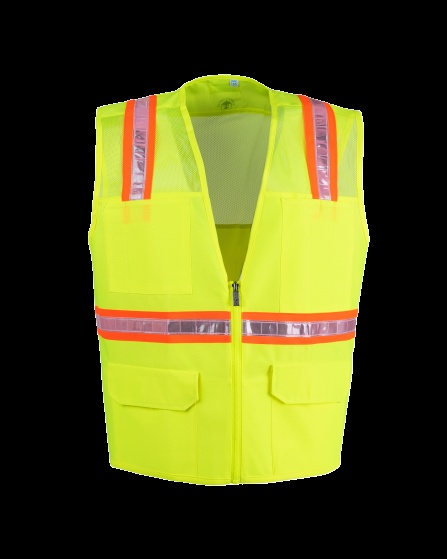safety vest: (88, 73, 368, 482)
